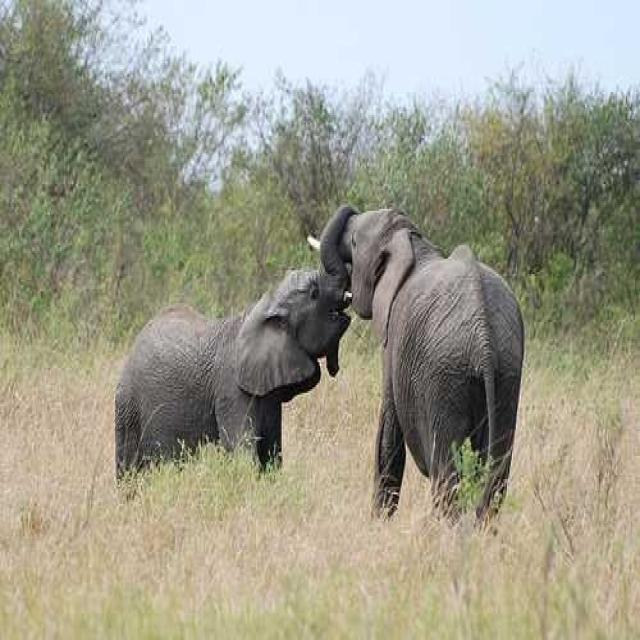Elephant: (306, 201, 525, 533), (113, 264, 352, 494)
